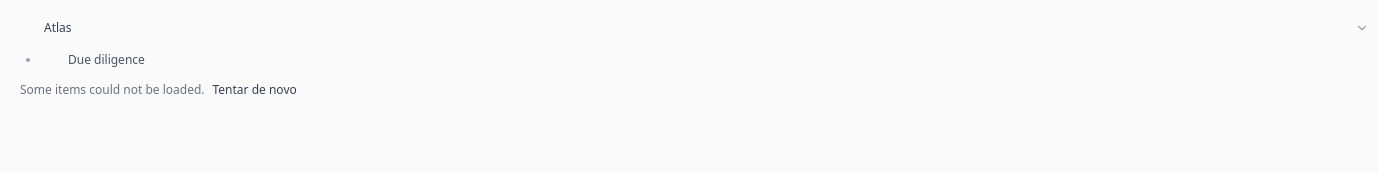
SidebarProjectItem › still lists chats when only the reviews request fails, with a retry
Expected: the link with aria-label "Conversa: Due diligence" is shown, [26,51,145,68]
Expected: the message reads "Some items could not be loaded.", [20,81,204,98]
Click the button "Tentar de novo" at (255, 90), box [212,82,297,98]
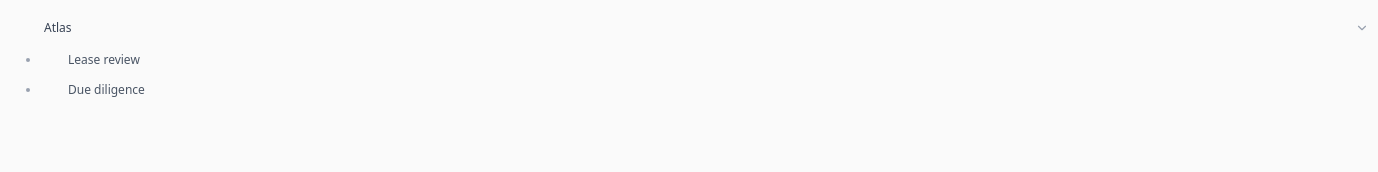
Now the link with aria-label "Tabela: Lease review" is shown, box [26,51,140,68]
Now the message "Some items could not be loaded." is gone
